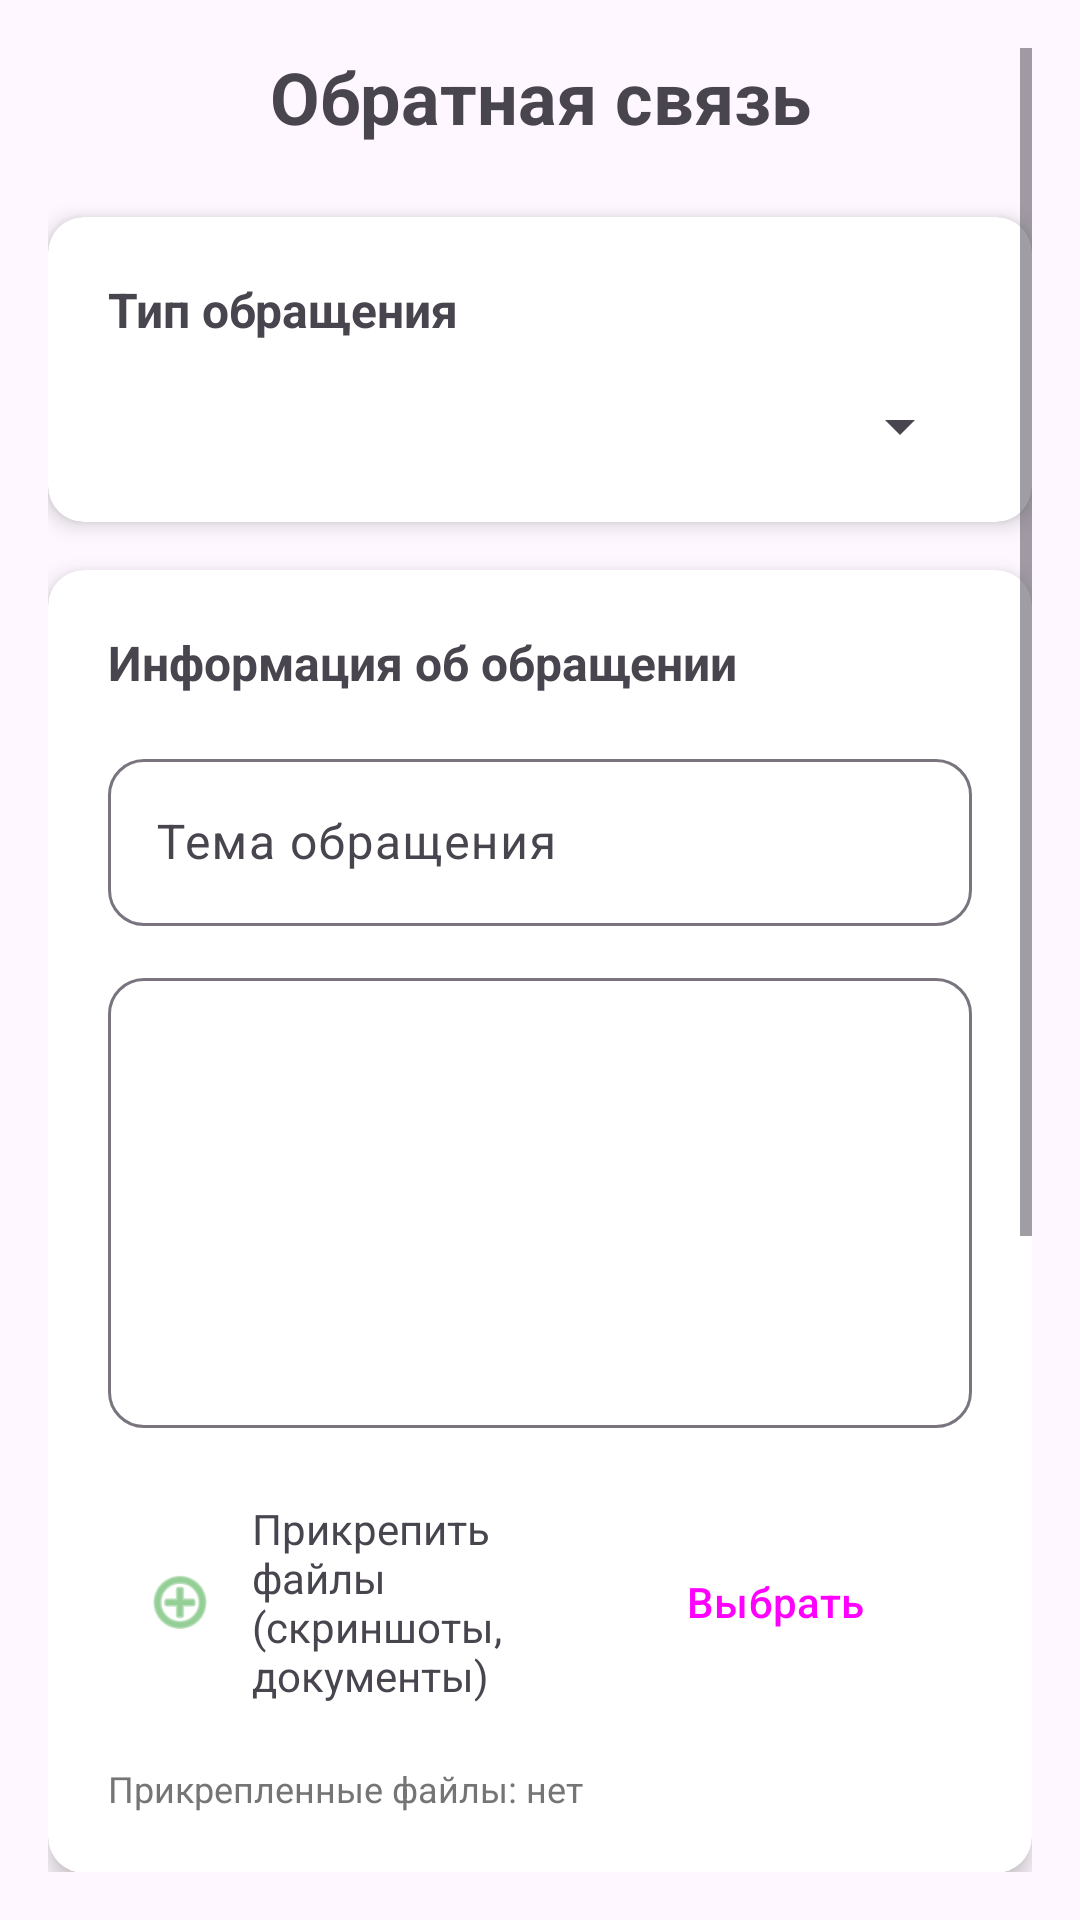

Screen size 1080 × 1920. Icon name, then its box in pixels as (x1, y1, x2, y2):
add: (153, 1576, 207, 1629)
